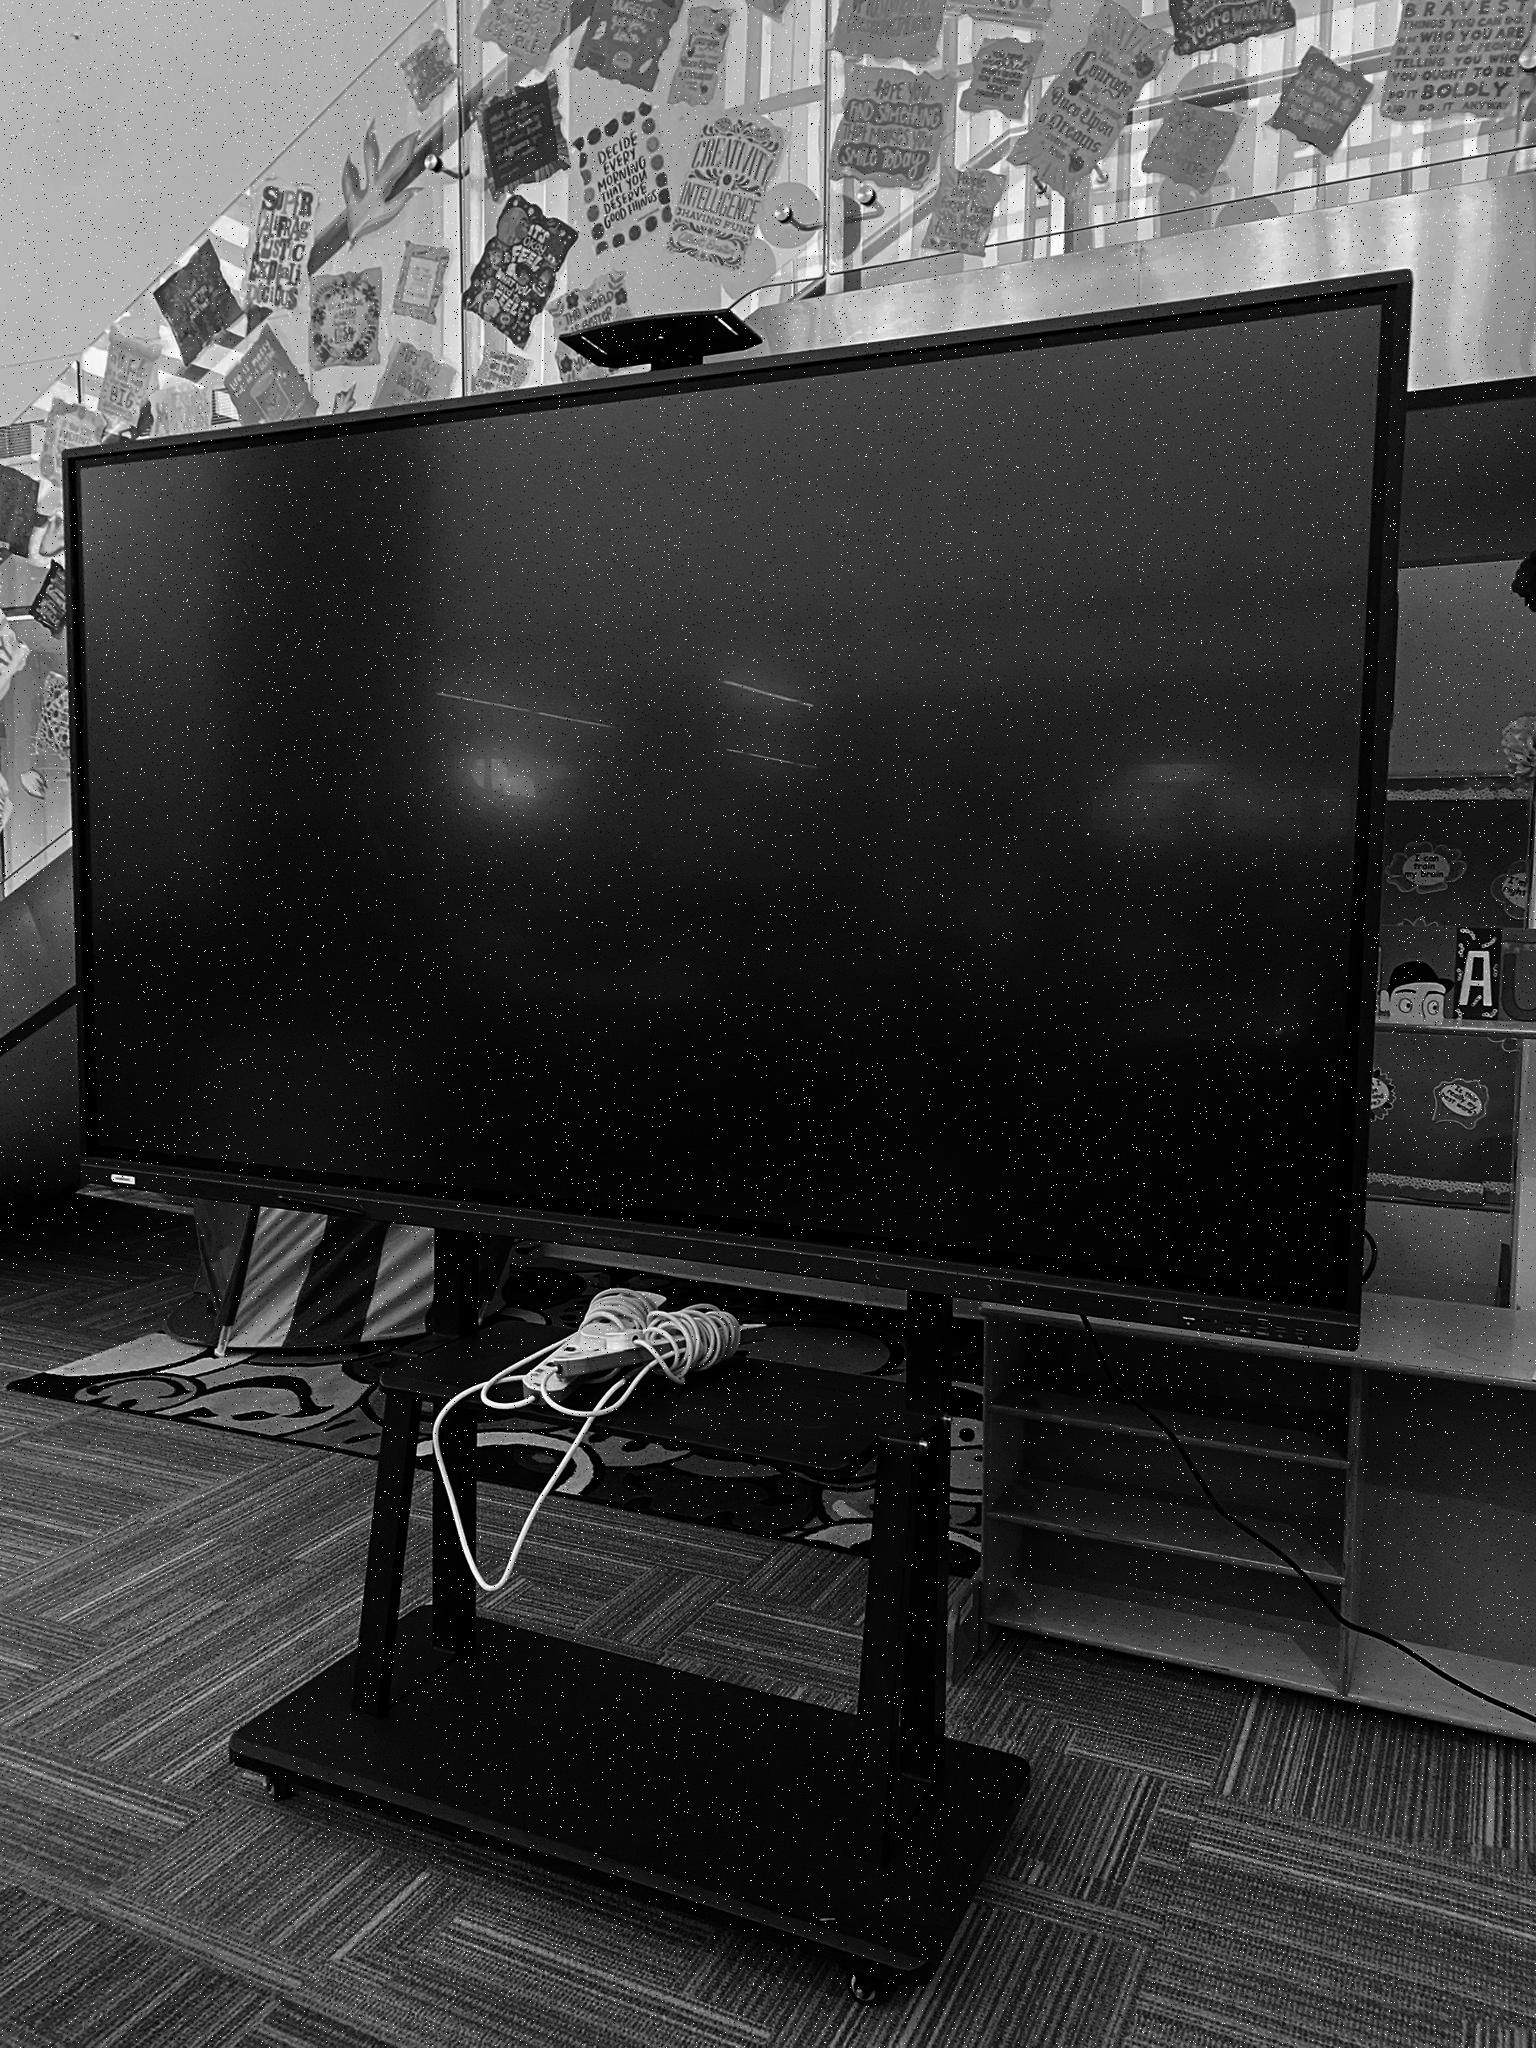Tv: (66, 273, 1410, 1345)
